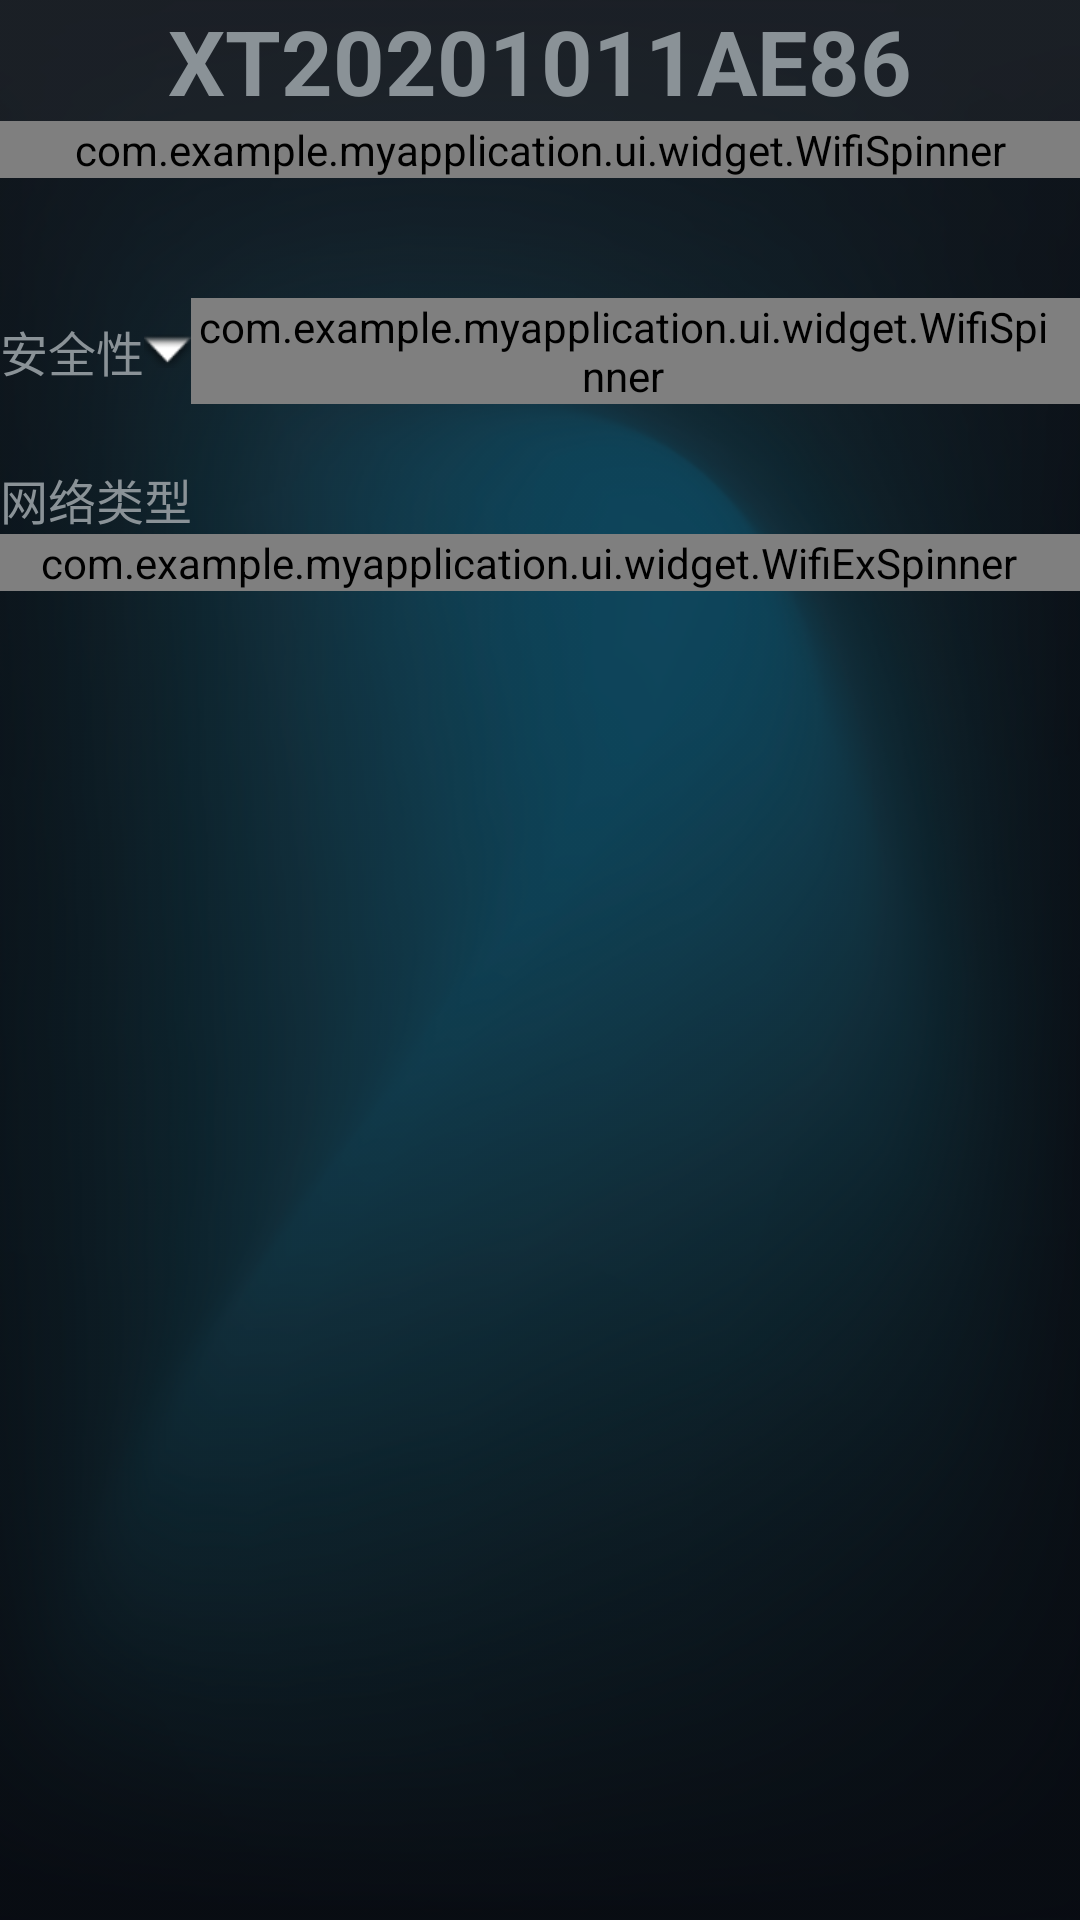

Icon click points for this 1080w x 1920h phone screenshot, format [x,y]:
arrow down float: [167,350]
